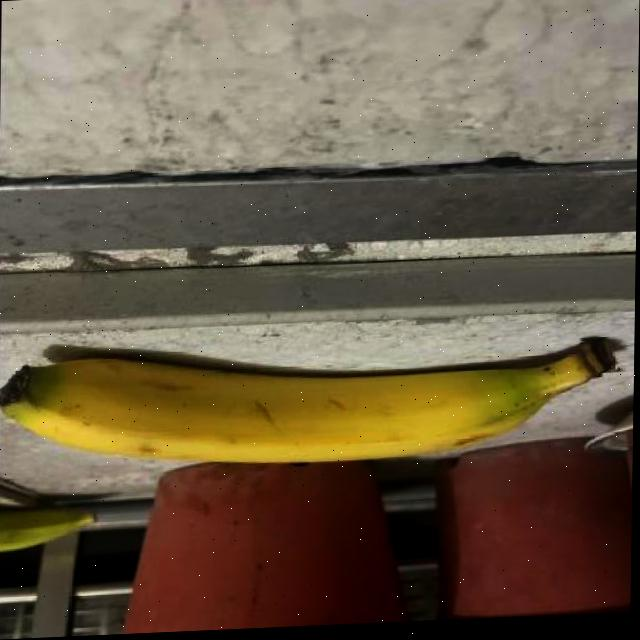banana: (0, 328, 623, 476)
